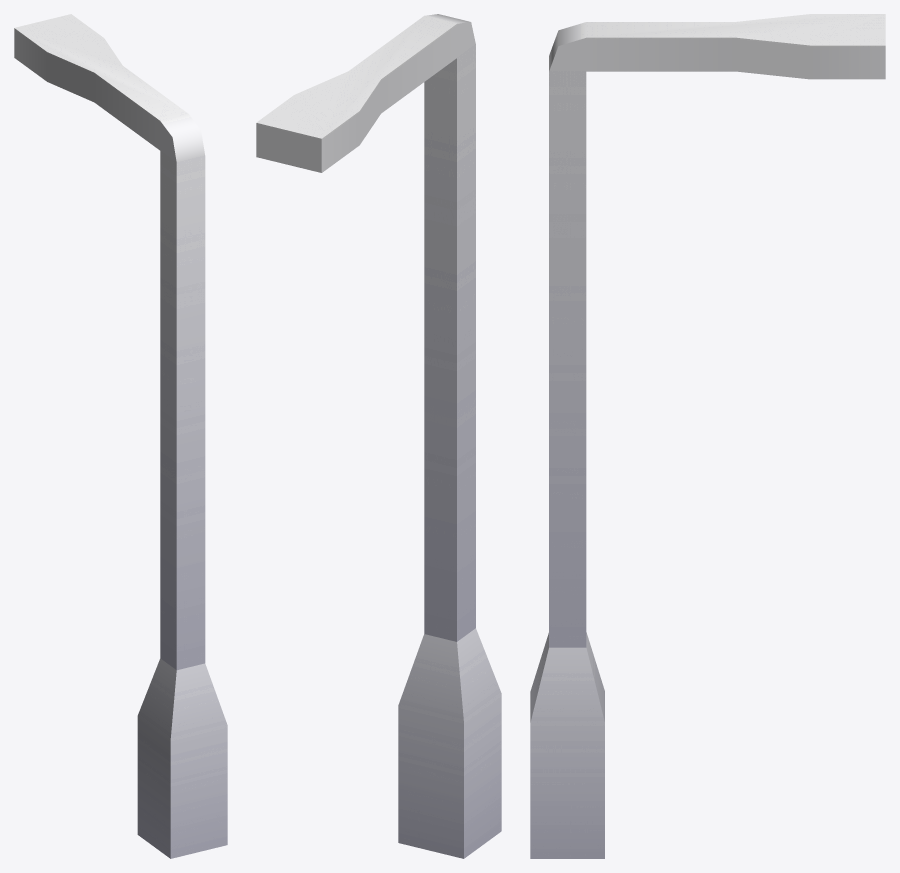
File: light-square.glb
3 renders of one model, left to right at view 1: azimuth 30°, elevation 25°; view 2: azimuth 150°, elevation 25°; view 3: azimuth 270°, elevation 25°, orthographic. The views are drawn at different scales.
Parts seen in each view (by area): view 1: light-square; view 2: light-square; view 3: light-square.
Part boxes in pixels (x1=…): light-square: x1=14, y1=14, x2=227, y2=858; light-square: x1=256, y1=14, x2=501, y2=858; light-square: x1=530, y1=14, x2=885, y2=858.
Size of the model in its own units: 0.05 by 0.6 by 0.2375.
Materials: 1 (1 with a texture image).
